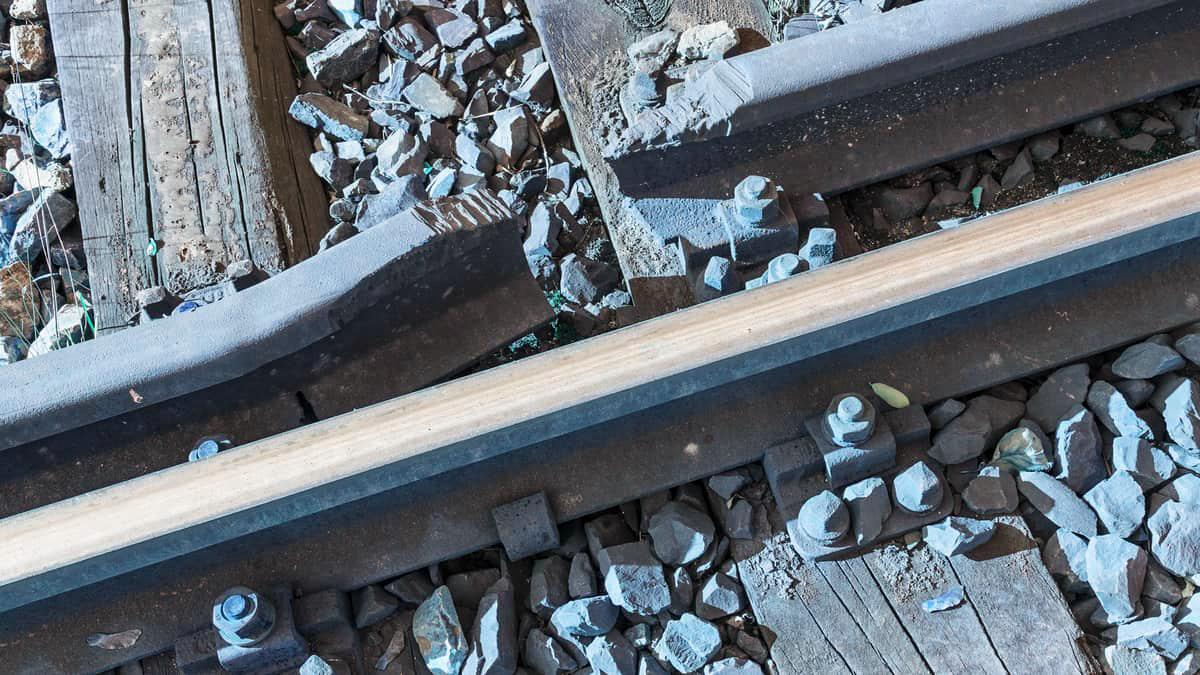error2: (369, 52, 765, 351)
